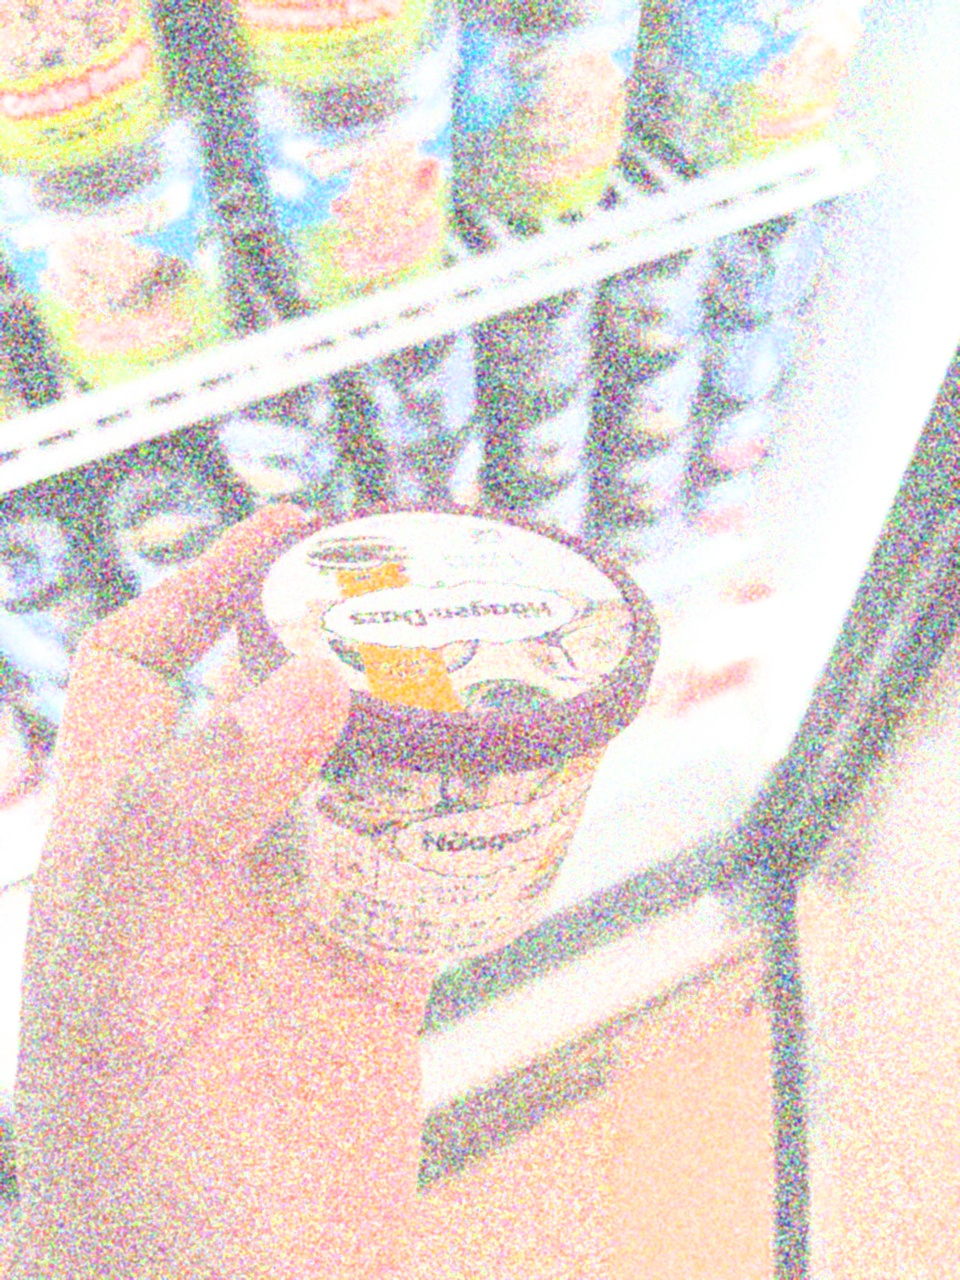Haagen-Dazs IceCream Tub: (235, 482, 671, 983)
